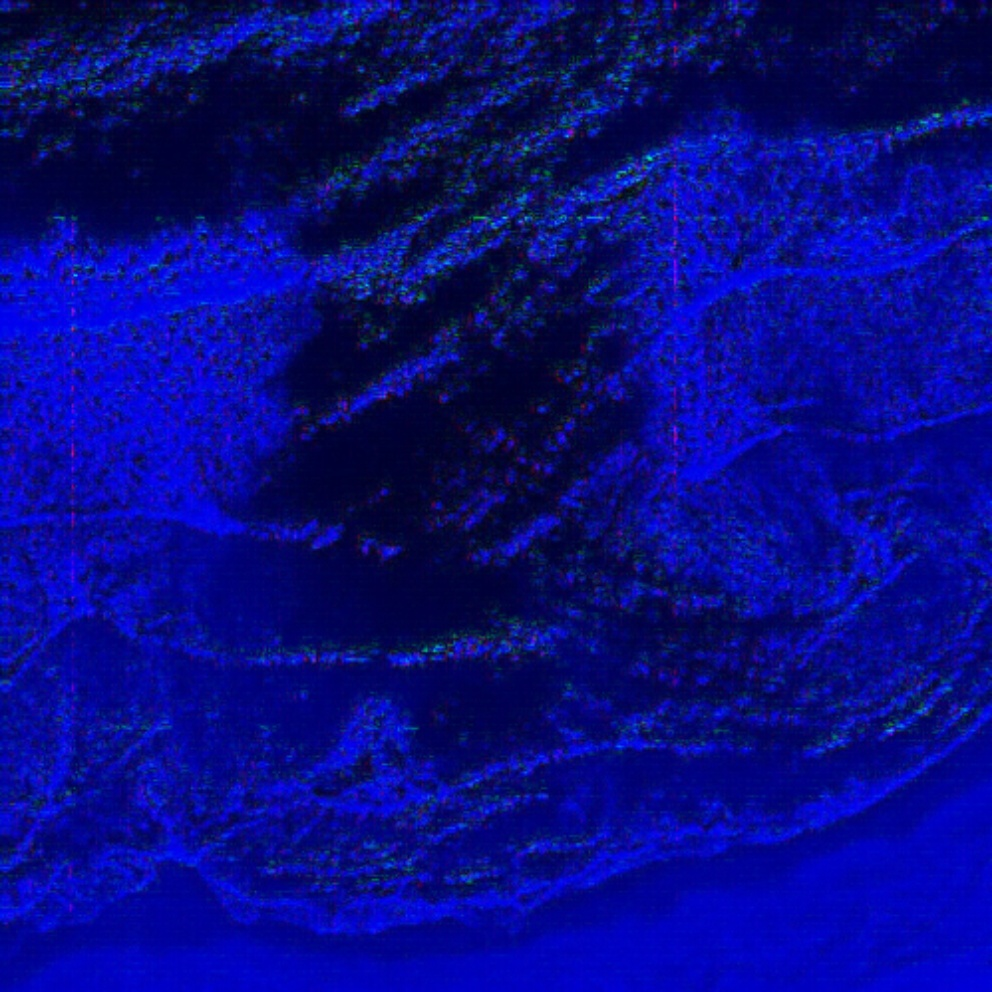rip_current: (174, 86, 718, 848)
